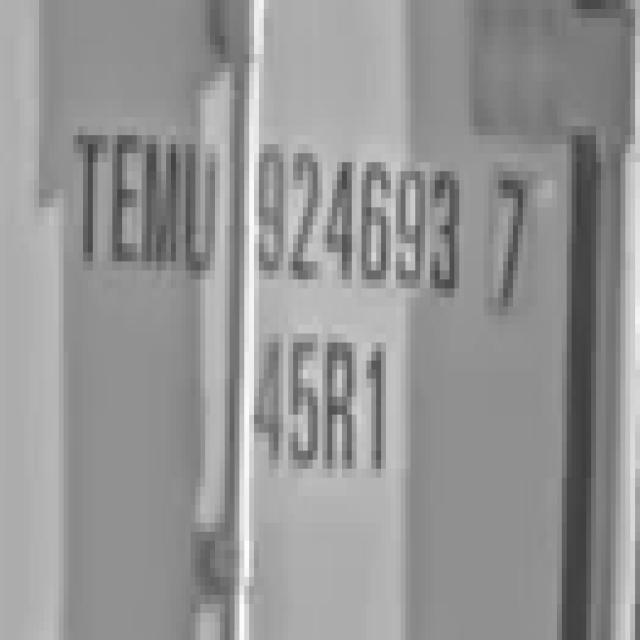dv: (481, 149, 538, 307)
owner: (65, 94, 218, 286)
serial: (255, 120, 463, 310)
size: (247, 317, 408, 487)
